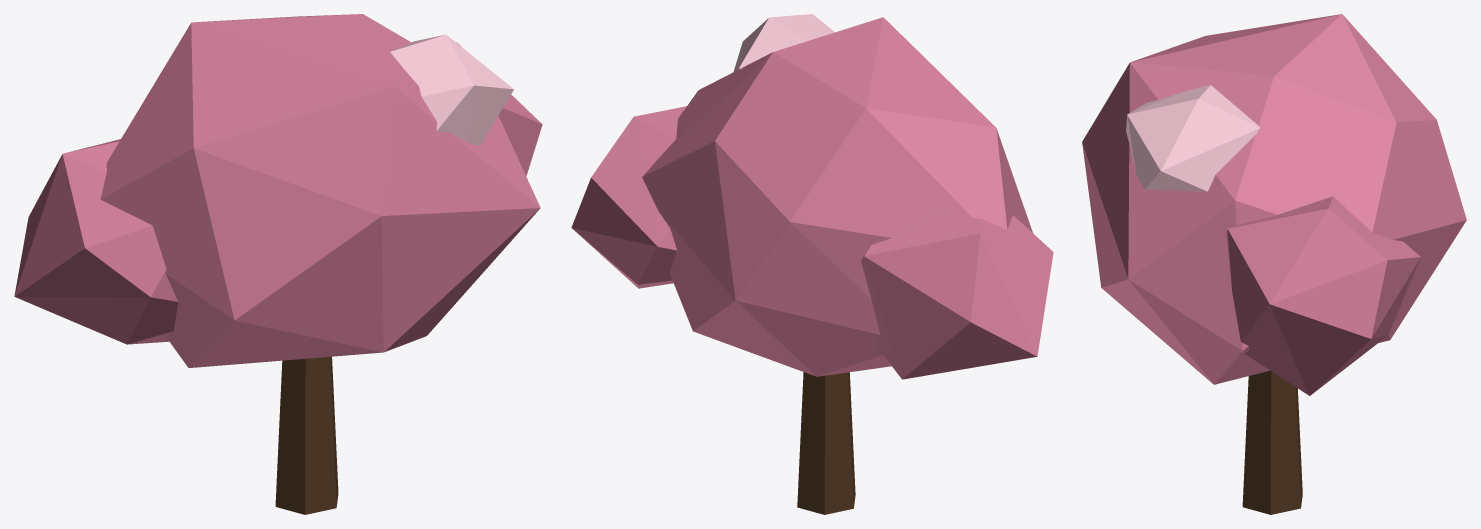
File: deco_tree_b.glb
3 views of the same model, side by side, from view 1: azimuth 30°, elevation 25°; view 2: azimuth 150°, elevation 25°; view 3: azimuth 270°, elevation 25° (orthographic). The views are drawn at different scales.
Parts seen in each view (by area): view 1: deco_tree_b_mesh; view 2: deco_tree_b_mesh; view 3: deco_tree_b_mesh.
Boxes of the visible parts, box(x1,y1,x2,y2) form: deco_tree_b_mesh: box(14, 14, 542, 514); deco_tree_b_mesh: box(571, 14, 1053, 514); deco_tree_b_mesh: box(1082, 14, 1466, 514).
Size of the model in its own units: 0.3992 by 0.3639 by 0.2814.
